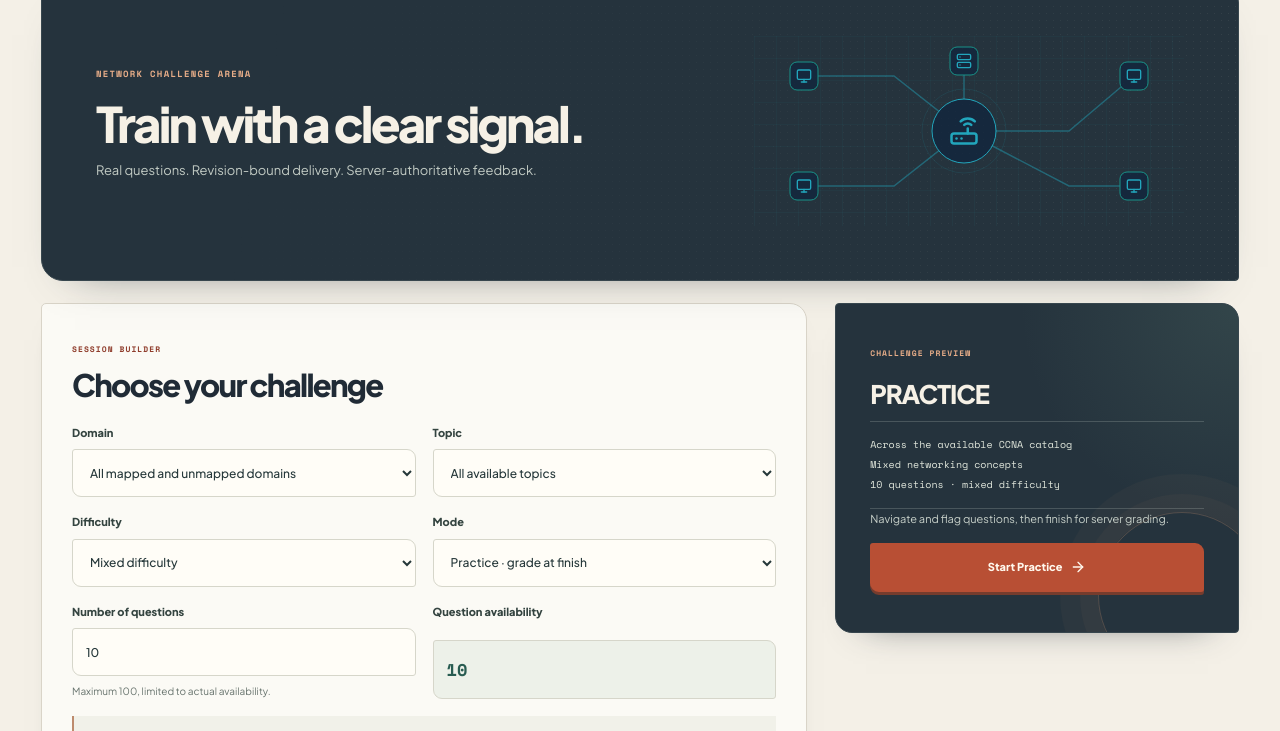
Practice mode defers grading until explicit Finish confirmation
Select "Practice · grade at finish" in the dropdown labelled "Mode". click: x=604, y=563
box: x1=433 y1=539 x2=776 y2=587
Click the button "Start Practice". click: x=1037, y=567
box: x1=870 y1=543 x2=1204 y2=592
(page scrolled)
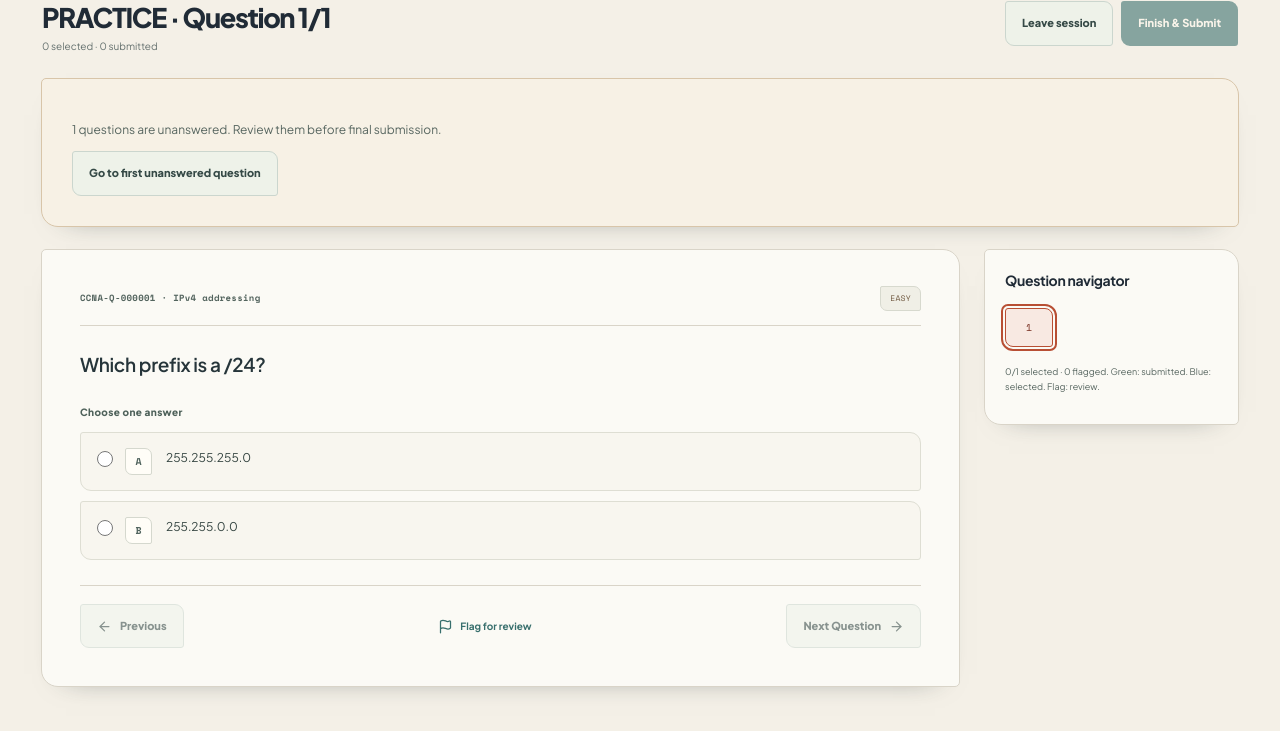
Click the radio button labelled "A 255.255.255.0". click: x=105, y=459
box: x1=97 y1=451 x2=113 y2=467
(page scrolled)
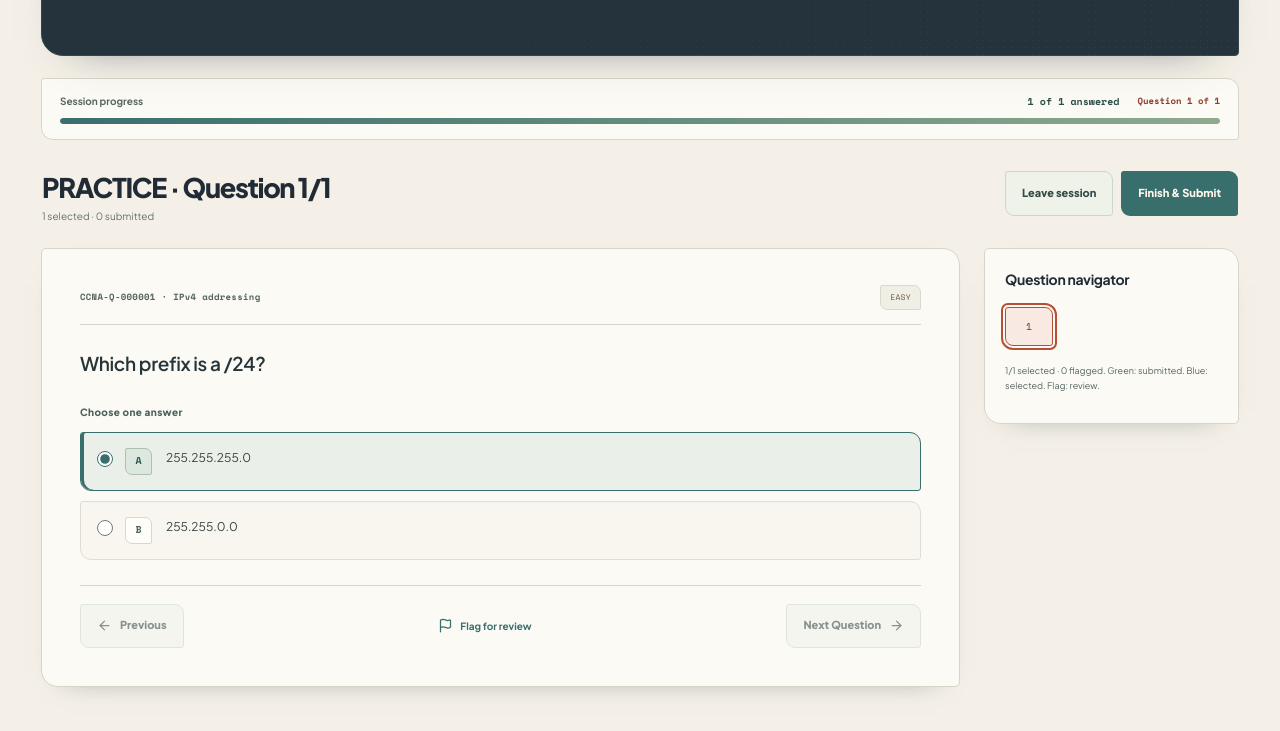
Expected: the button "Finish & Submit" is shown
Click the button "Finish & Submit". click: x=1180, y=193
box: x1=1121 y1=171 x2=1238 y2=216
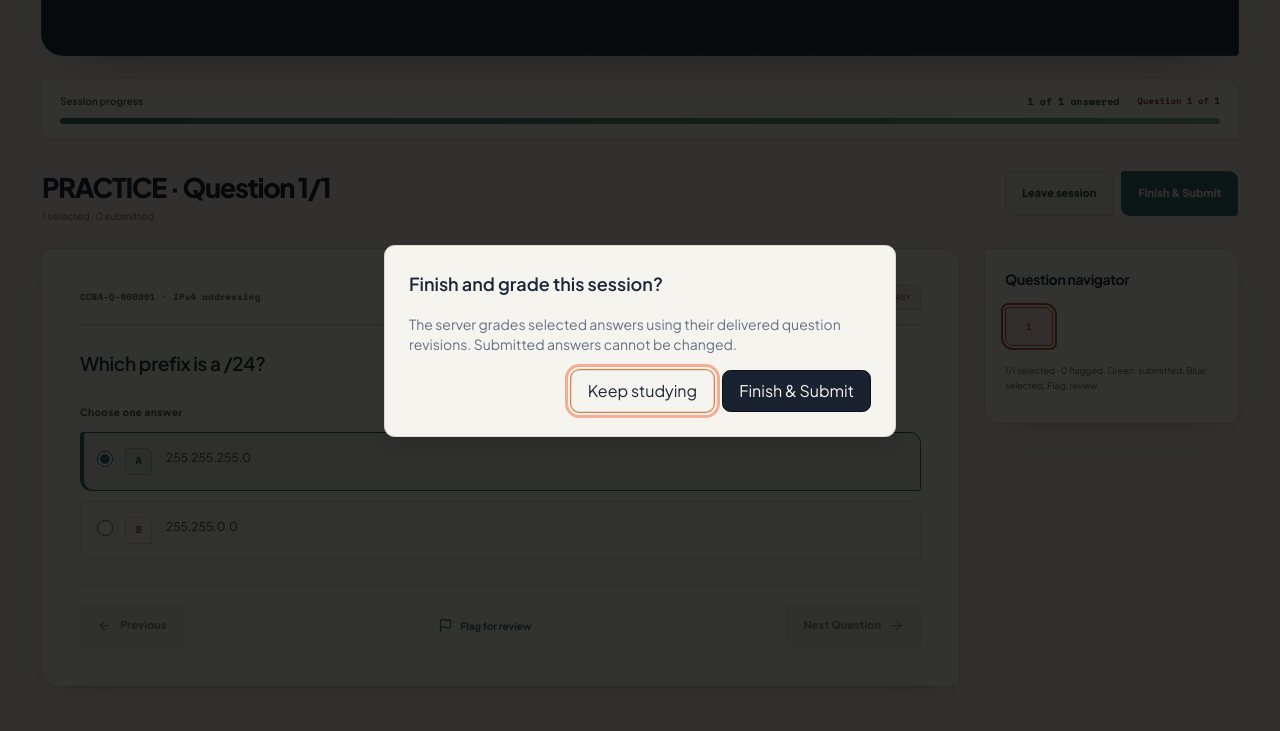
Expected: the text "Finish and grade" is shown, x1=409 y1=272 x2=663 y2=295
Click the button "Finish & Submit". click: x=797, y=391
box: x1=722 y1=370 x2=871 y2=412
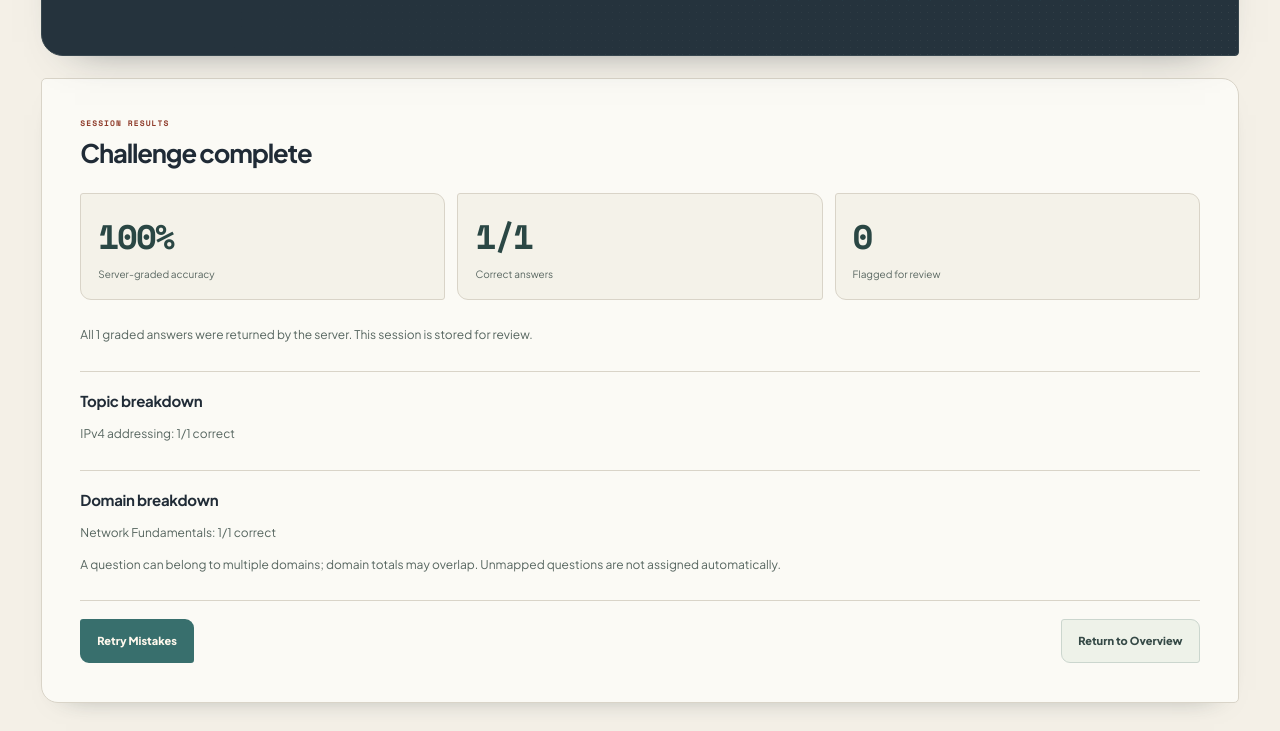
Expected: the text "Challenge complete" is shown, x1=80 y1=136 x2=311 y2=169
Expected: the text "100%" is shown, x1=98 y1=211 x2=173 y2=261
